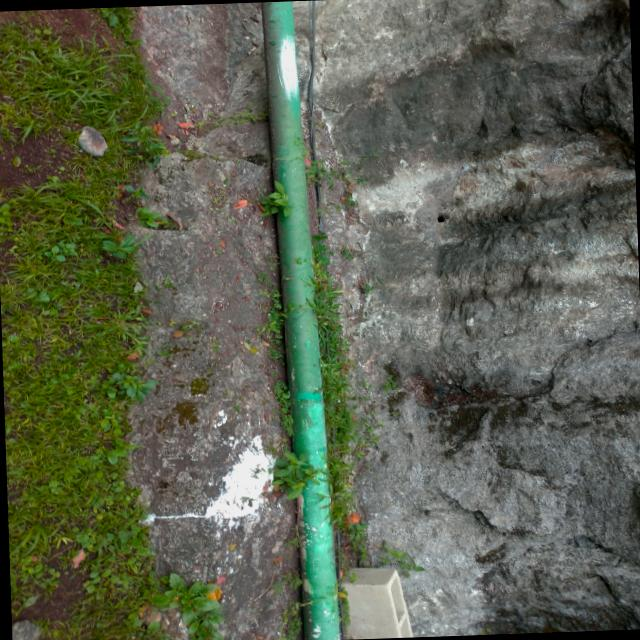gas: (263, 1, 334, 640)
